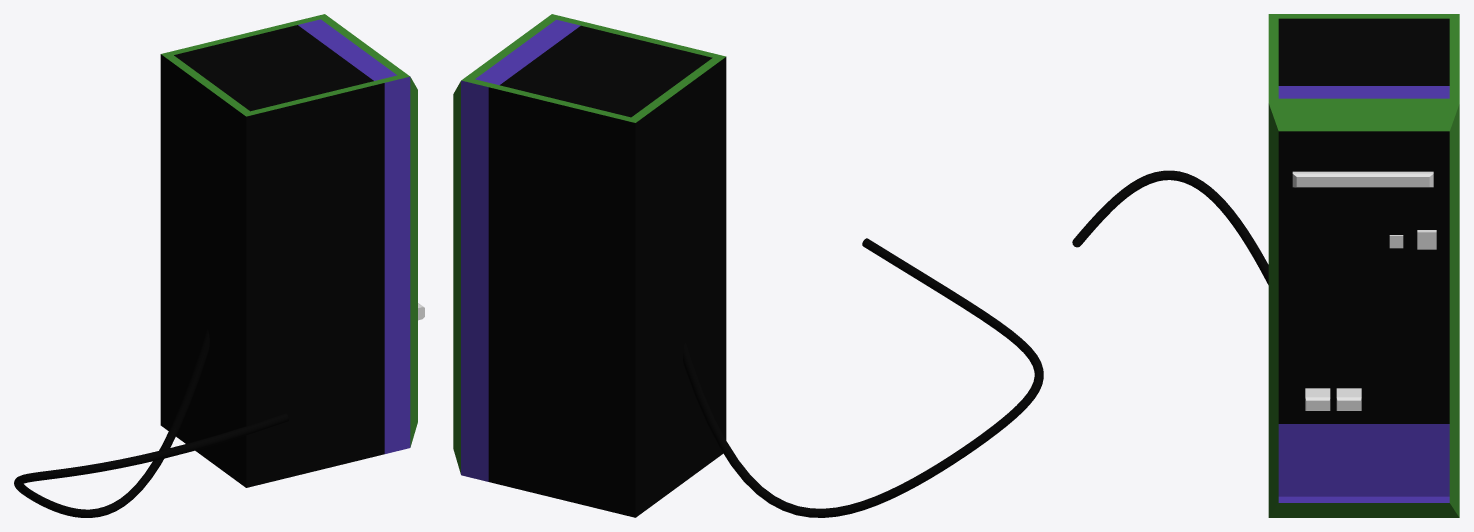
The model's file is pcTorre.fbx.
3 views of the same model, side by side, from view 1: azimuth 30°, elevation 25°; view 2: azimuth 150°, elevation 25°; view 3: azimuth 270°, elevation 25° (orthographic). The views are drawn at different scales.
Visible parts, largest first — view 1: Cube.003, NurbsPath.001; view 2: Cube.003, NurbsPath.001; view 3: Cube.003, NurbsPath.001, Cube.002, Cube.007, Cube.008.
Boxes of the visible parts, <box> form: Cube.003: <box>160,14,417,487</box>; NurbsPath.001: <box>14,329,288,517</box>; Cube.003: <box>453,14,726,517</box>; NurbsPath.001: <box>683,238,1043,517</box>; Cube.003: <box>1268,14,1459,517</box>; NurbsPath.001: <box>1072,170,1268,284</box>; Cube.002: <box>1292,171,1433,187</box>; Cube.007: <box>1305,388,1330,410</box>; Cube.008: <box>1336,388,1361,410</box>.
Bounding box in the file's own units: 361 × 294 × 238.
